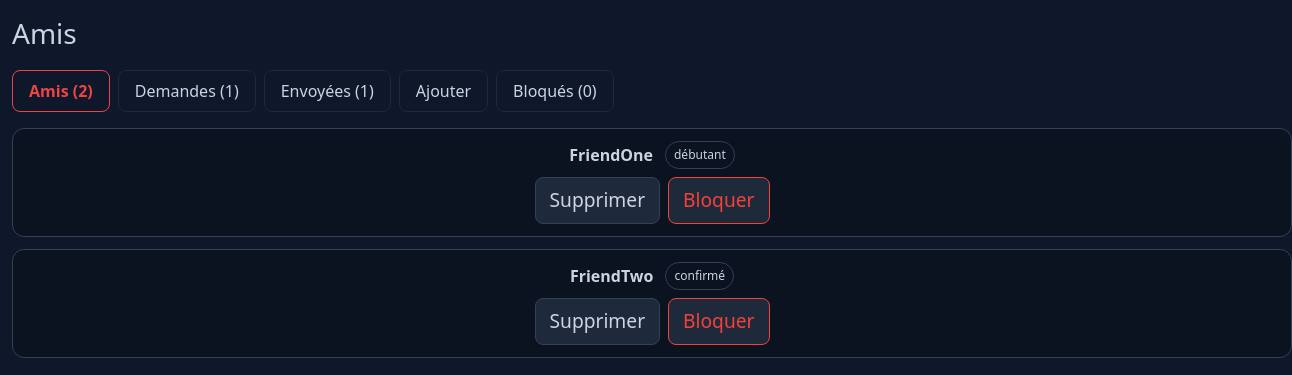
Test: FriendsPage › renders requests tab
The image size is (1292, 375).
Click the button with class "tab" showing "Demandes (1)" at {"x": 187, "y": 91}, box [118,70,256,112]
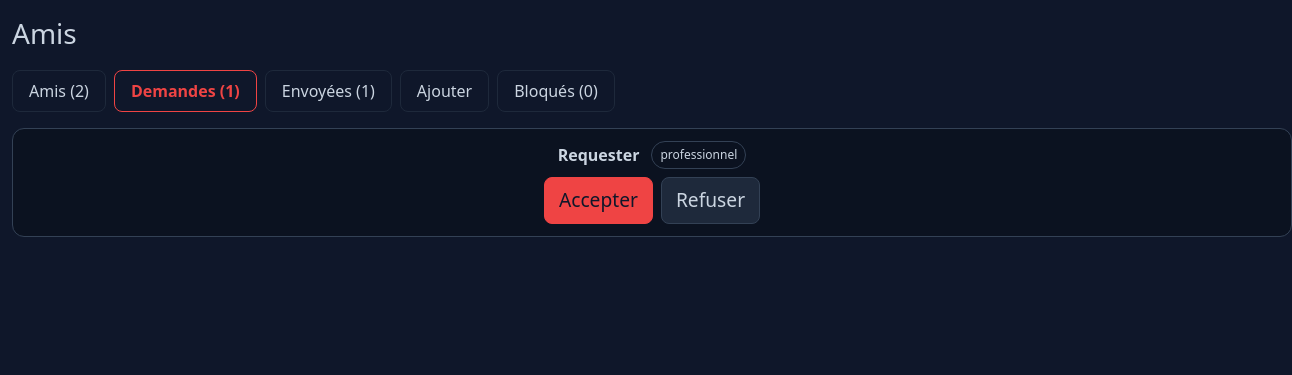
Result: the text "Requester" is shown at [558,143,639,167]
Result: the text "Accepter" is shown at [544,177,653,224]
Result: the text "Refuser" is shown at [661,177,760,224]
